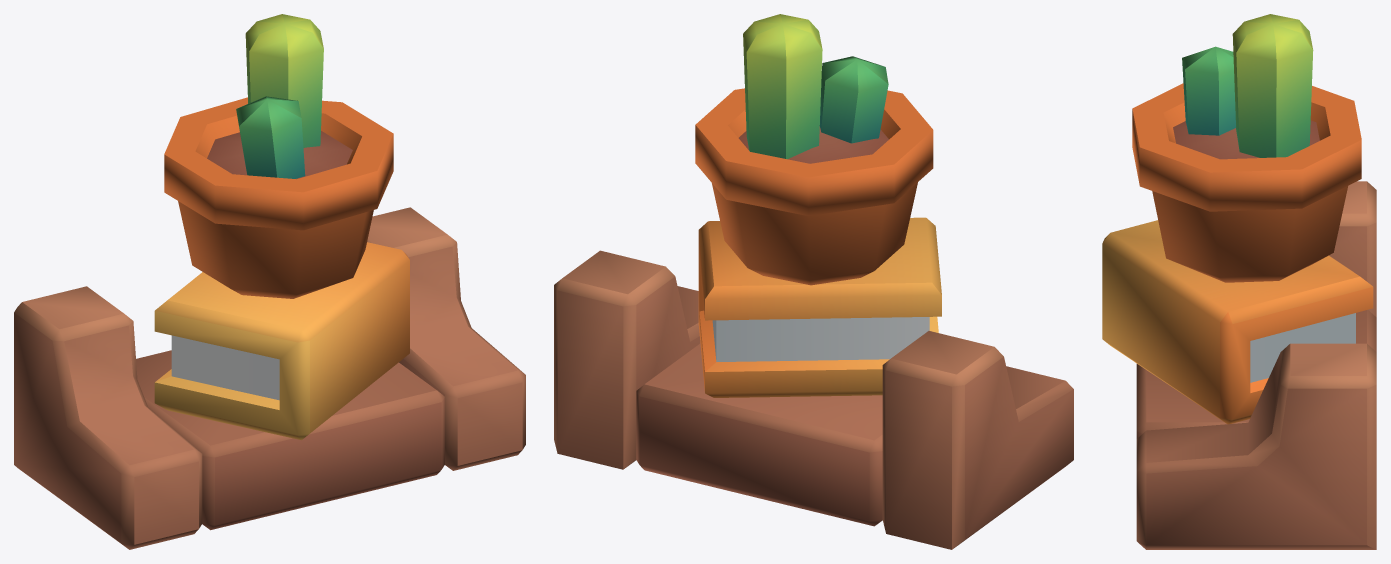
Rendered from shelf_B_small_decorated_Mid.glb.
3 views of the same model, side by side, from view 1: azimuth 30°, elevation 25°; view 2: azimuth 150°, elevation 25°; view 3: azimuth 270°, elevation 25° (orthographic). The views are drawn at different scales.
Visible parts, largest first — view 1: shelf_B_small_decorated; view 2: shelf_B_small_decorated; view 3: shelf_B_small_decorated.
Boxes of the visible parts, bbox=[...] form: shelf_B_small_decorated: bbox=[14, 14, 525, 549]; shelf_B_small_decorated: bbox=[554, 14, 1073, 549]; shelf_B_small_decorated: bbox=[1102, 14, 1376, 549].
Size of the model in its own units: 1 by 1.01 by 0.5713.
1 material, 1 textured.
